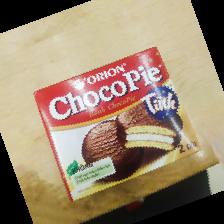Chocopie: (35, 47, 203, 206)
